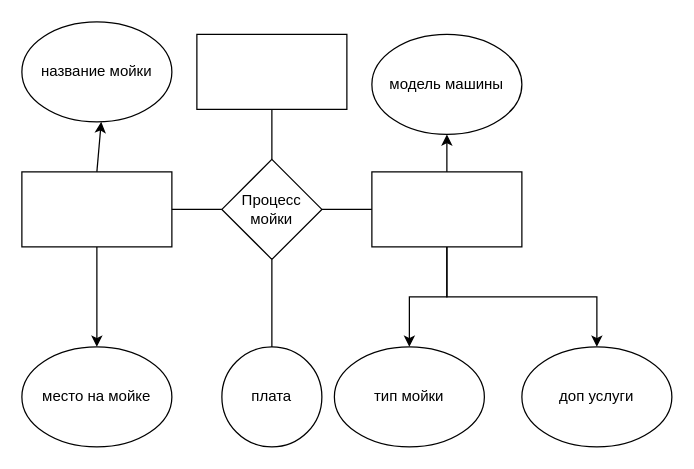
Image size: 694x469. Some labels were removed from this diagram. The shapes that lost their labels are listed below. From the top down, each one's centre as x and y in pixels, then its label:
At pixel 271 71: "мойщик".
At pixel 96 209: "Мойка".
At pixel 446 209: "Клиент".
